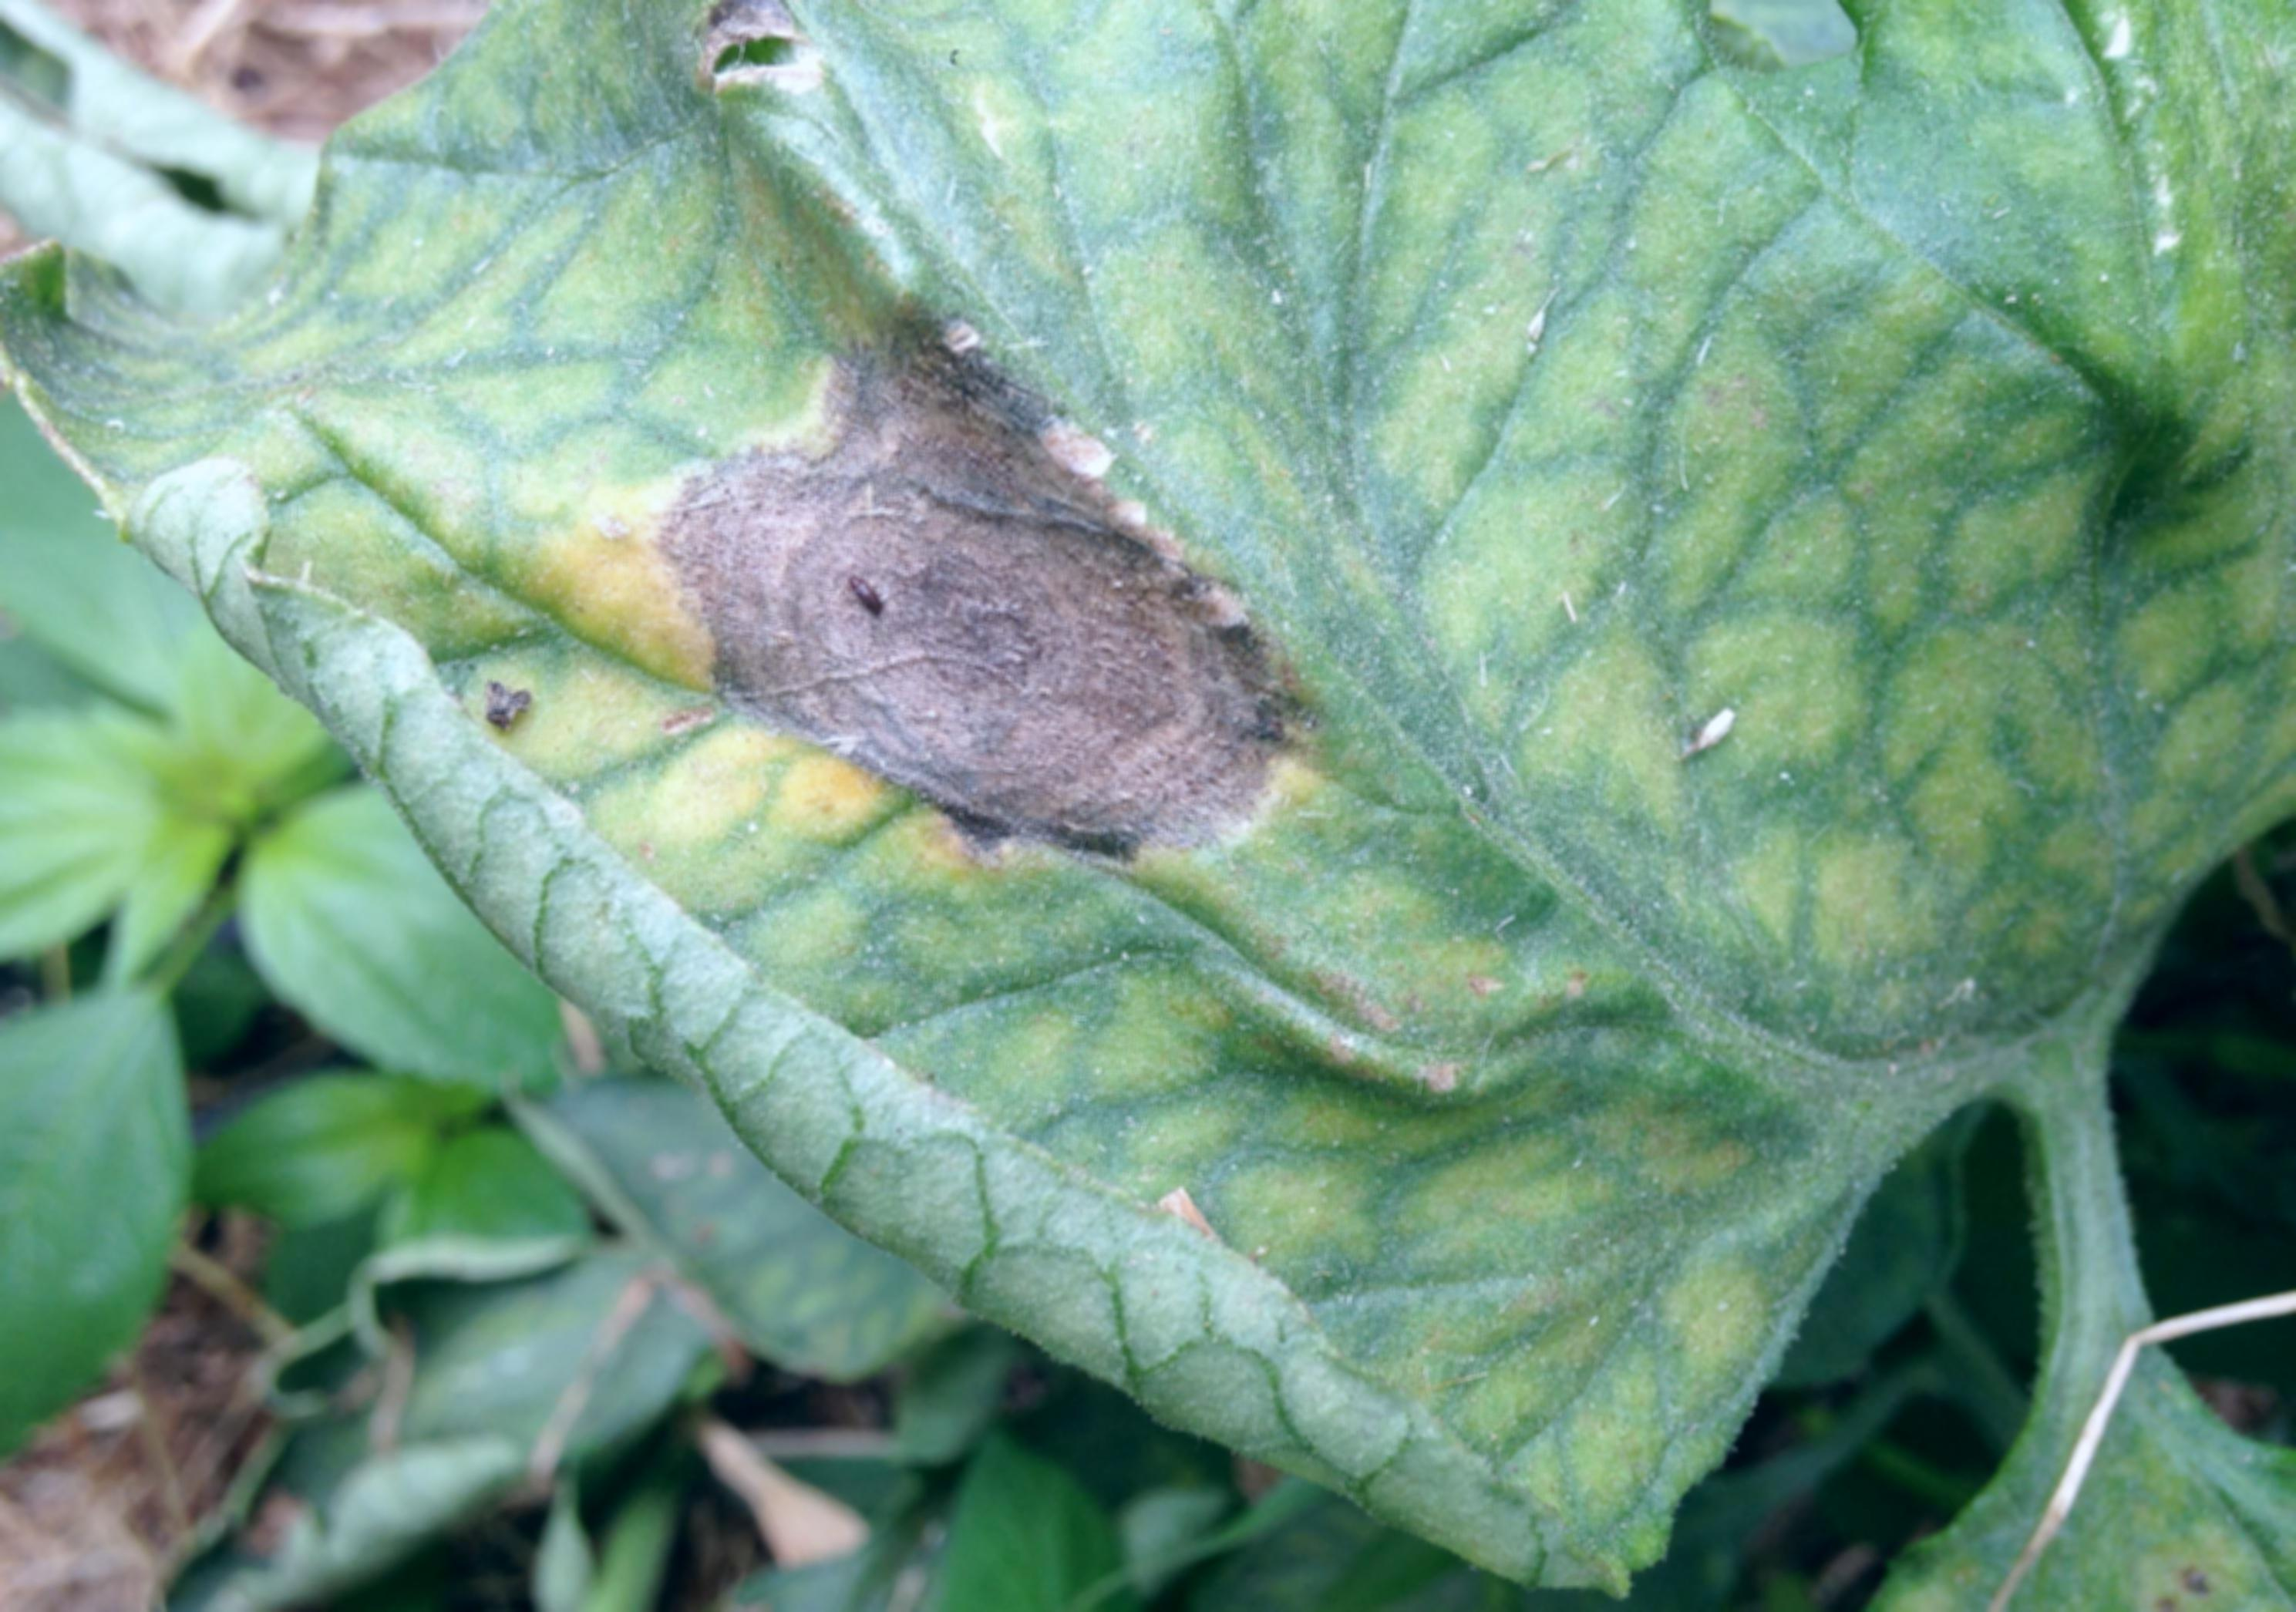Tomato Early blight leaf: (548, 124, 1534, 905)
